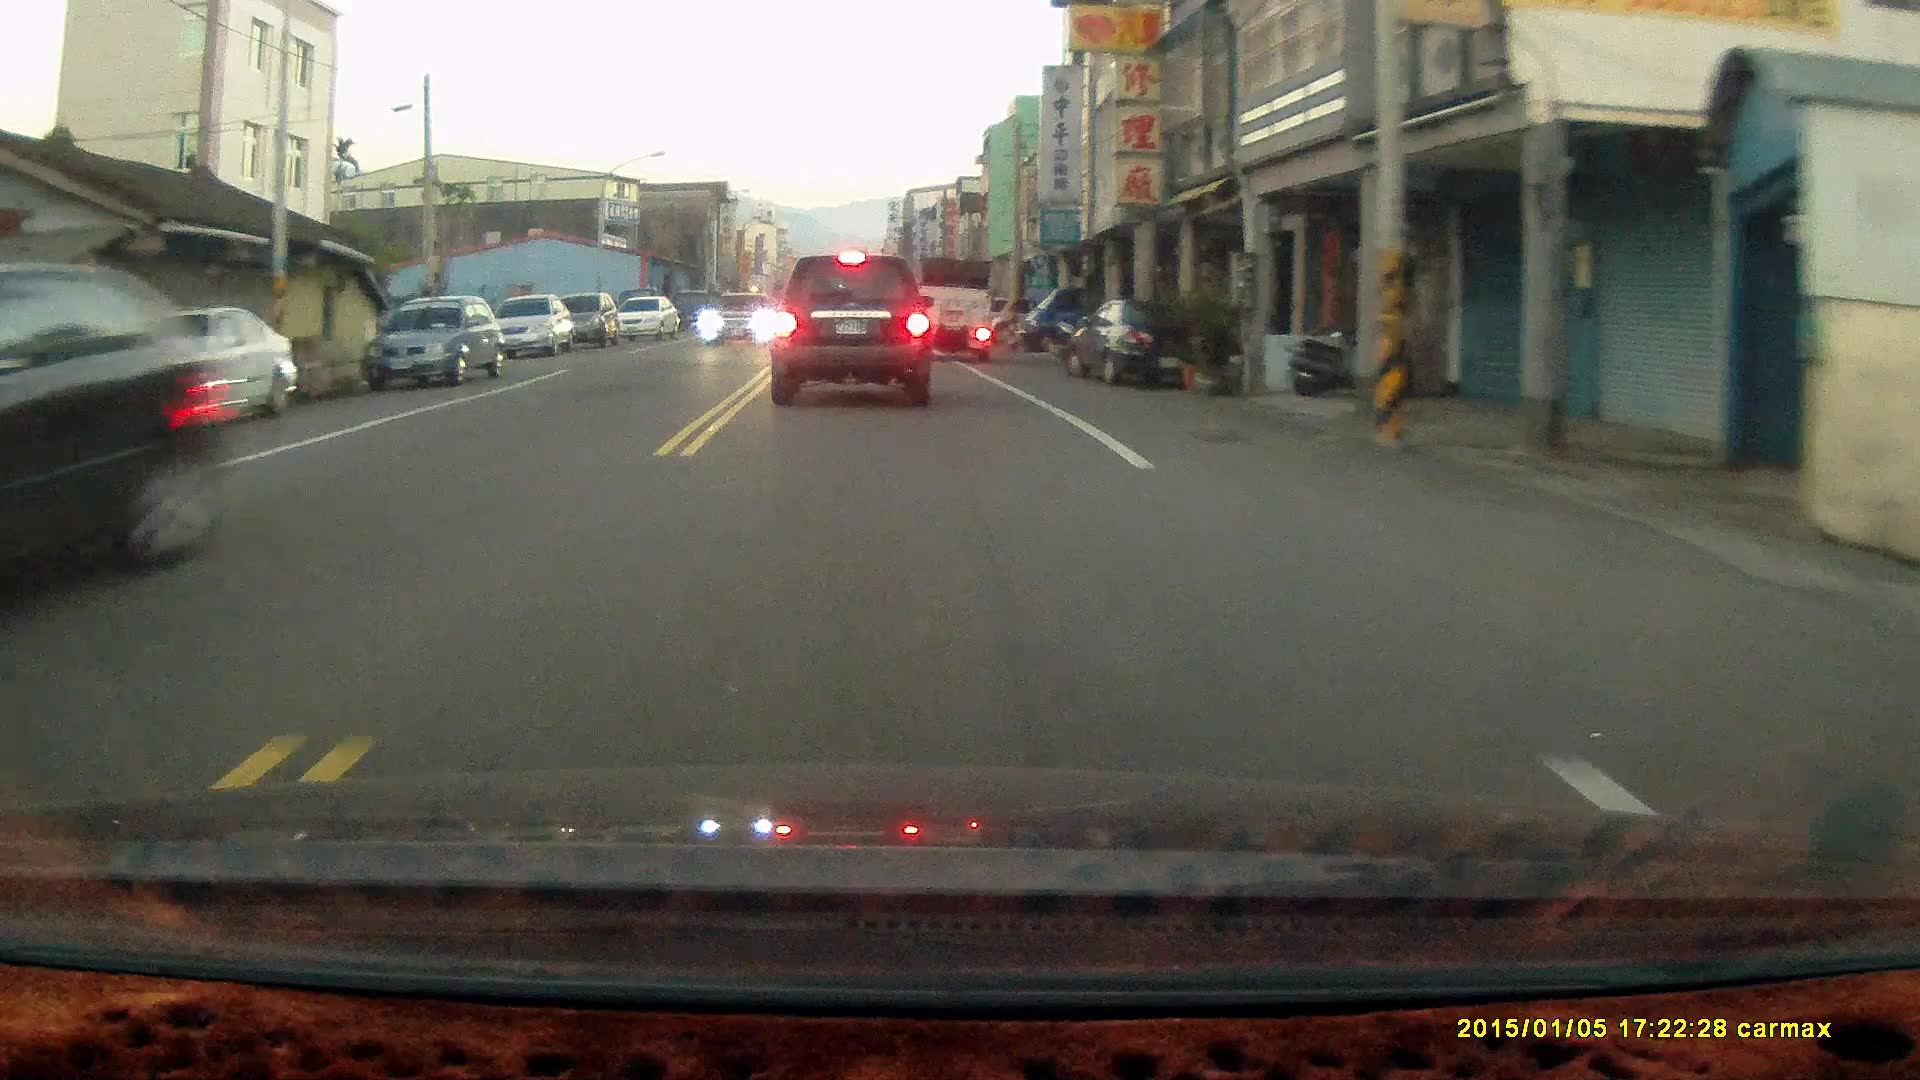vehicle: (1, 269, 223, 633), (770, 251, 934, 407), (111, 305, 293, 439), (1067, 297, 1218, 386), (367, 295, 505, 389), (906, 256, 1000, 368), (1023, 280, 1145, 359), (495, 294, 571, 359), (702, 293, 778, 348), (549, 291, 621, 348), (613, 297, 684, 348)
